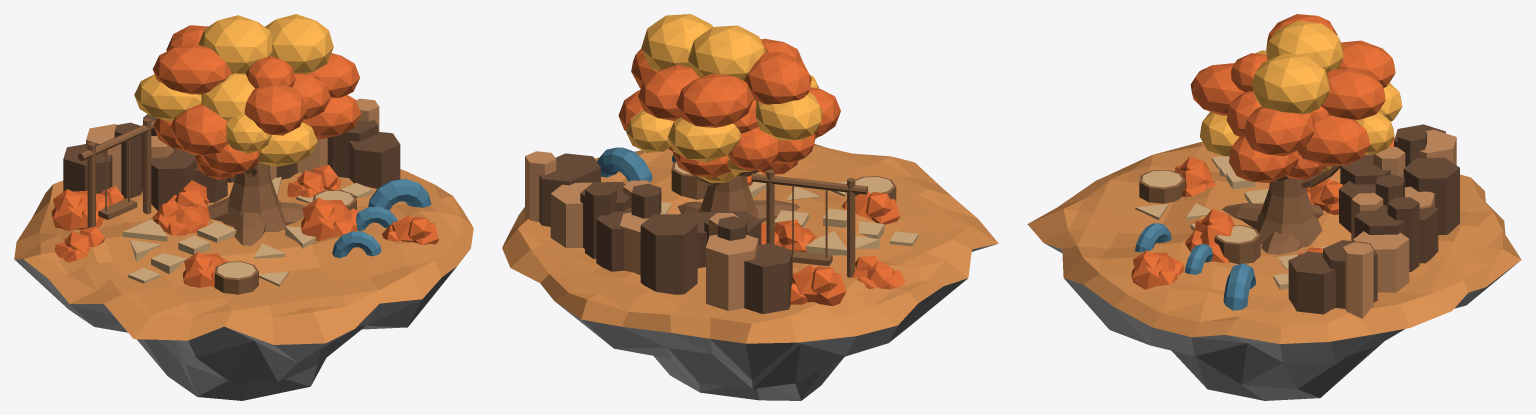
The model's file is Island_Orange.glb.
3 views of the same model, side by side, from view 1: azimuth 30°, elevation 25°; view 2: azimuth 150°, elevation 25°; view 3: azimuth 270°, elevation 25° (orthographic). The views are drawn at different scales.
Parts seen in each view (by area): view 1: Cone, Icosphere.014, Icosphere.016, Cube.004, Icosphere.015, Cylinder, Cylinder.022, Icosphere.023, Icosphere.030, Cylinder.015, Icosphere.039, Icosphere.011 (+36 smaller); view 2: Cone, Cylinder.034, Icosphere.019, Cube.004, Icosphere.015, Cylinder.018, Cylinder.017, Icosphere.016, Icosphere.014, Icosphere.011, Icosphere.018, Icosphere.020 (+29 smaller); view 3: Cone, Icosphere.014, Cylinder, Icosphere.012, Cylinder.034, Icosphere.022, Cylinder.022, Icosphere.020, Icosphere.015, Cylinder.025, Cylinder.024, Icosphere.003 (+31 smaller).
Boxes of the visible parts, x1=… form: Cone: x1=14, y1=169, x2=473, y2=400; Icosphere.014: x1=265, y1=14, x2=333, y2=73; Icosphere.016: x1=152, y1=43, x2=231, y2=94; Cube.004: x1=78, y1=118, x2=156, y2=227; Icosphere.015: x1=198, y1=15, x2=272, y2=73; Cylinder: x1=221, y1=162, x2=286, y2=231; Cylinder.022: x1=349, y1=131, x2=400, y2=188; Icosphere.023: x1=244, y1=85, x2=306, y2=135; Icosphere.030: x1=170, y1=104, x2=227, y2=155; Cylinder.015: x1=151, y1=149, x2=197, y2=210; Icosphere.039: x1=301, y1=197, x2=358, y2=241; Icosphere.011: x1=134, y1=74, x2=201, y2=121; Cone: x1=502, y1=144, x2=998, y2=400; Cylinder.034: x1=640, y1=214, x2=697, y2=294; Icosphere.019: x1=676, y1=73, x2=753, y2=127; Cube.004: x1=751, y1=169, x2=867, y2=277; Icosphere.015: x1=688, y1=25, x2=766, y2=80; Cylinder.018: x1=706, y1=234, x2=758, y2=310; Cylinder.017: x1=744, y1=243, x2=792, y2=314; Icosphere.016: x1=744, y1=52, x2=811, y2=104; Icosphere.014: x1=641, y1=14, x2=712, y2=71; Icosphere.011: x1=755, y1=92, x2=822, y2=140; Icosphere.018: x1=668, y1=117, x2=741, y2=162; Icosphere.020: x1=638, y1=65, x2=699, y2=120; Cone: x1=1027, y1=142, x2=1521, y2=400; Icosphere.014: x1=1252, y1=53, x2=1329, y2=114; Cylinder: x1=1252, y1=178, x2=1322, y2=247; Icosphere.012: x1=1244, y1=106, x2=1314, y2=156; Cylinder.034: x1=1403, y1=157, x2=1459, y2=234; Icosphere.022: x1=1297, y1=115, x2=1370, y2=166; Cylinder.022: x1=1288, y1=251, x2=1335, y2=314; Icosphere.020: x1=1321, y1=68, x2=1385, y2=120; Icosphere.015: x1=1266, y1=20, x2=1343, y2=72; Cylinder.025: x1=1353, y1=231, x2=1409, y2=292; Cylinder.024: x1=1343, y1=242, x2=1373, y2=318; Icosphere.003: x1=1229, y1=136, x2=1299, y2=183.
Bounding box in the file's own units: 10.07 × 8.9 × 10.55.
